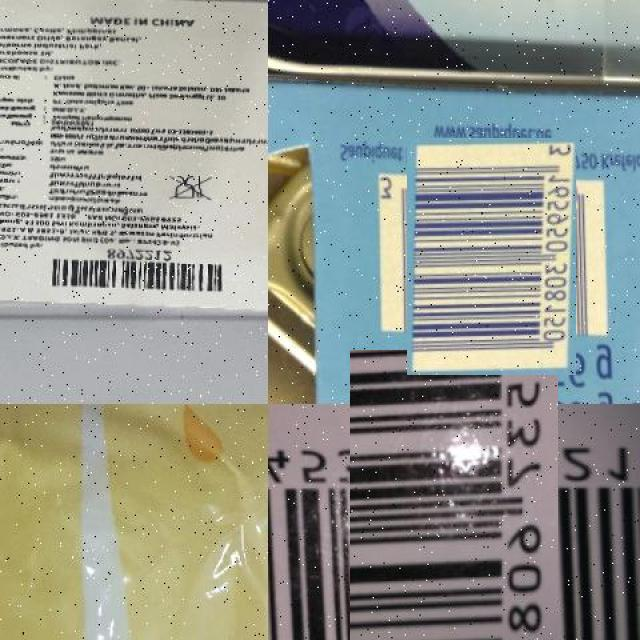Barcode: (309, 391, 599, 640), (390, 155, 594, 358), (39, 249, 233, 299)
